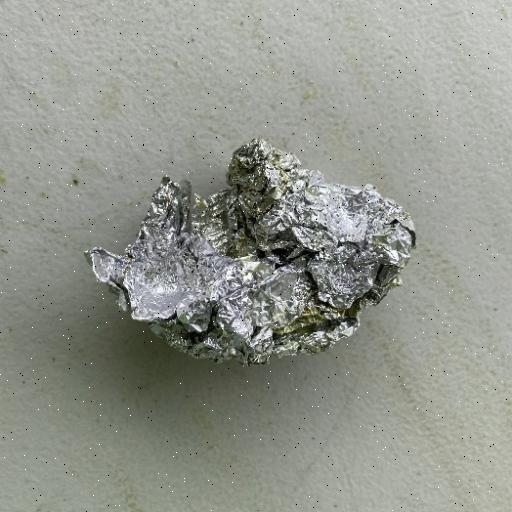Metal: (83, 136, 417, 368)
